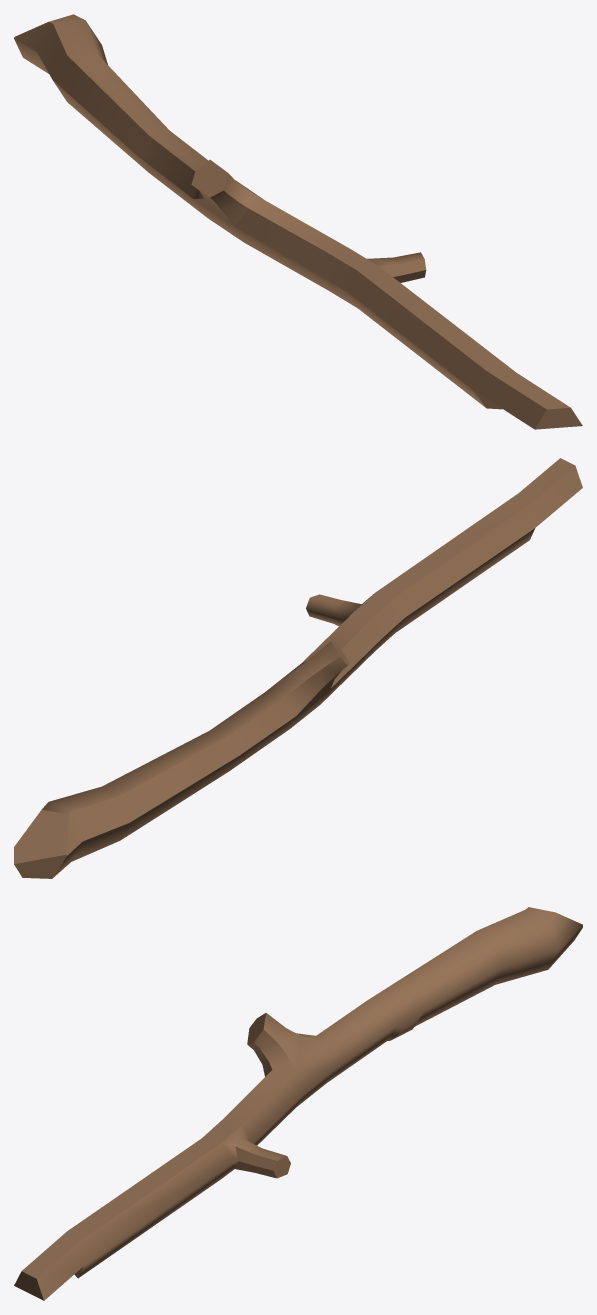
File: dead_branch_01.glb
3 renders of one model, top to bottom at view 1: azimuth 30°, elevation 25°; view 2: azimuth 150°, elevation 25°; view 3: azimuth 330°, elevation 25°, orthographic. The views are drawn at different scales.
Visible parts, largest first — view 1: dead_branch_01; view 2: dead_branch_01; view 3: dead_branch_01.
Boxes of the visible parts, x1=… form: dead_branch_01: x1=14, y1=14, x2=582, y2=429; dead_branch_01: x1=14, y1=458, x2=582, y2=878; dead_branch_01: x1=14, y1=907, x2=582, y2=1300.
Size of the model in its own units: 0.0658 by 0.0406 by 0.4611.
